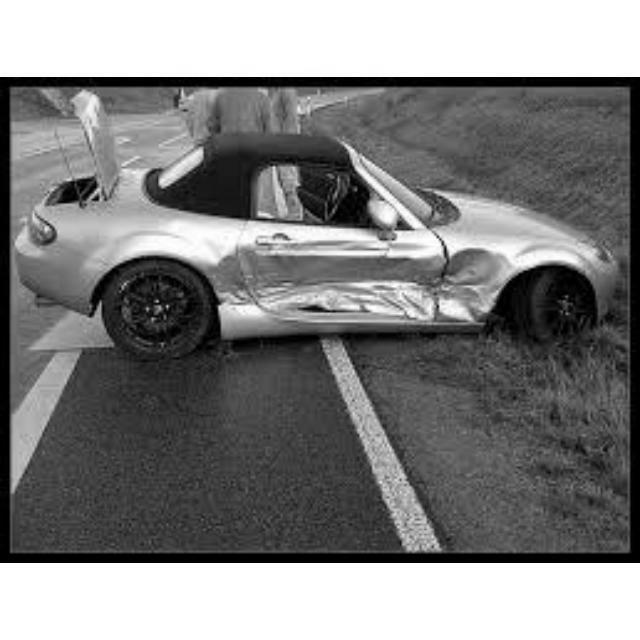boot-dent: (37, 167, 120, 215)
doorouter-dent: (246, 224, 429, 330)
fender-dent: (449, 226, 523, 315)
quaterpanel-dent: (181, 211, 245, 337)
